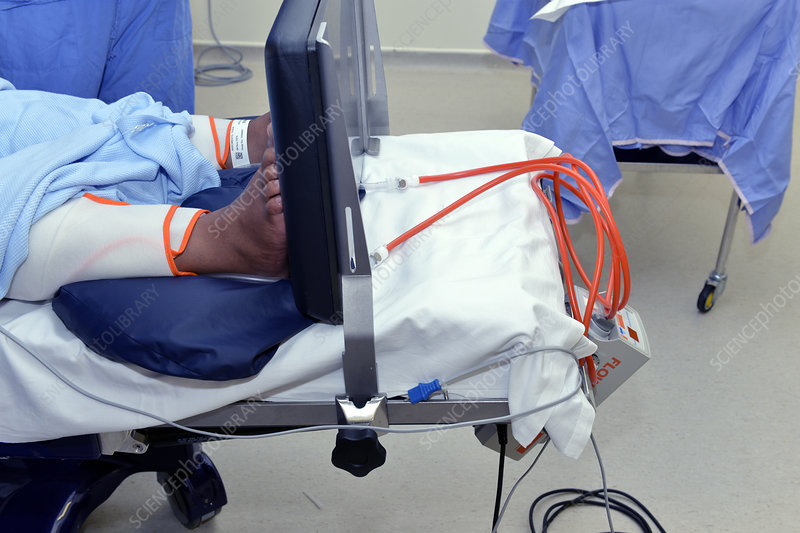foot_board: (264, 1, 390, 476)
hospital_bed: (1, 130, 596, 533)
patient: (1, 75, 284, 302)
sequential_compression: (372, 165, 651, 463)
utility_cart: (483, 1, 800, 314)
